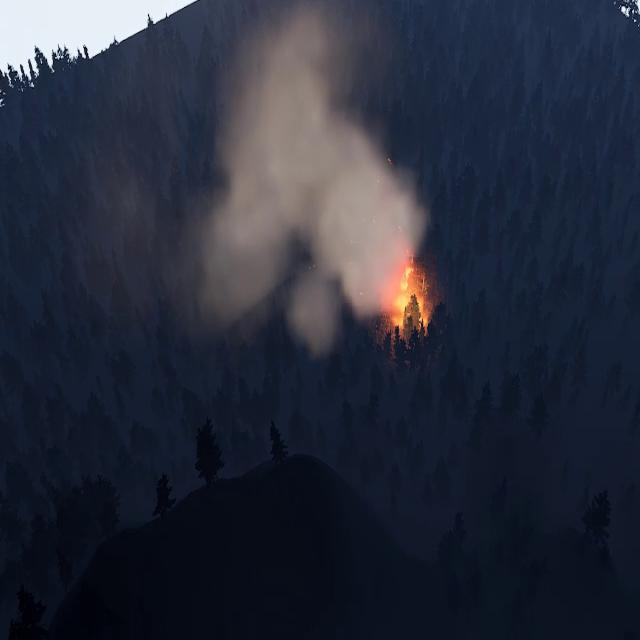fire: (387, 256, 432, 346)
smoke: (174, 5, 418, 359)
